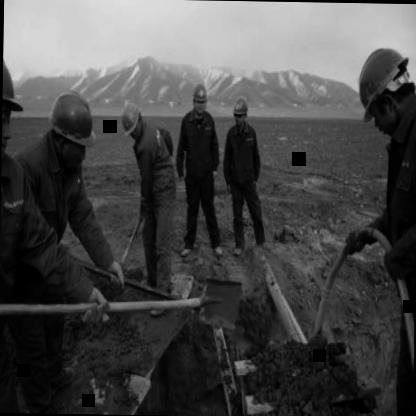helmet: (349, 41, 416, 140), (45, 85, 97, 171), (0, 40, 22, 173), (118, 98, 146, 138), (188, 78, 210, 118), (228, 94, 252, 130)
